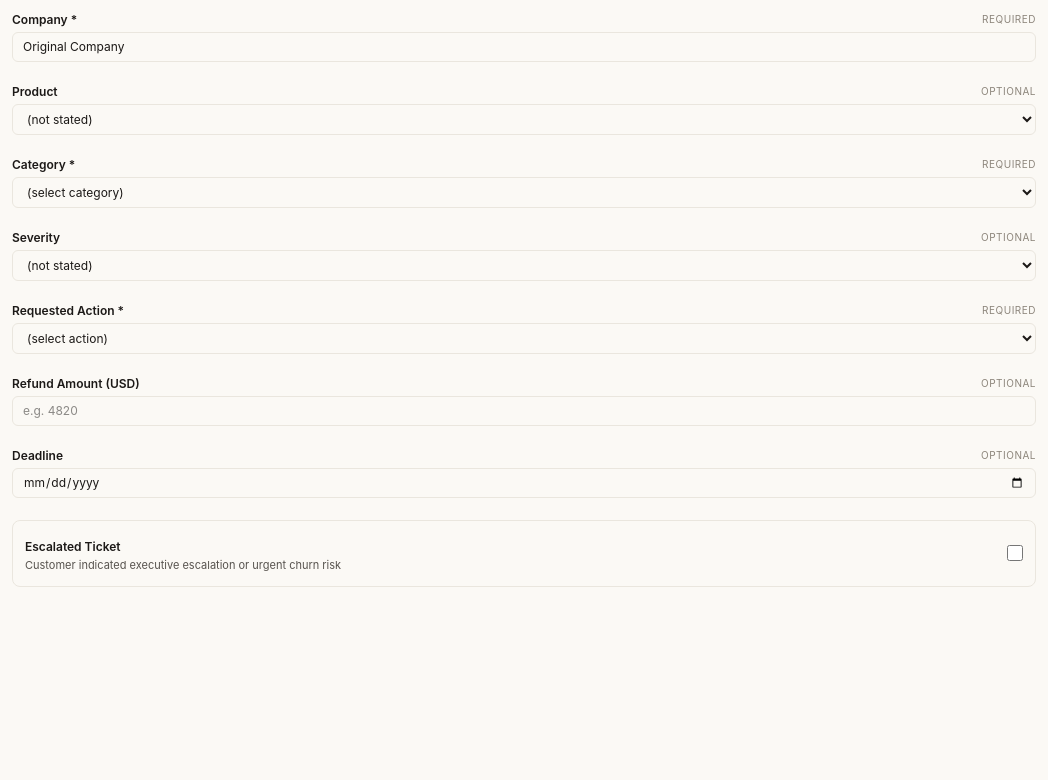
it: FieldEditor component › handles Enter to commit and Escape to cancel an edit
Step 1. Replace the text in the field with test id "input-company" with "New Company" → (524, 47), box [12,32,1036,62]
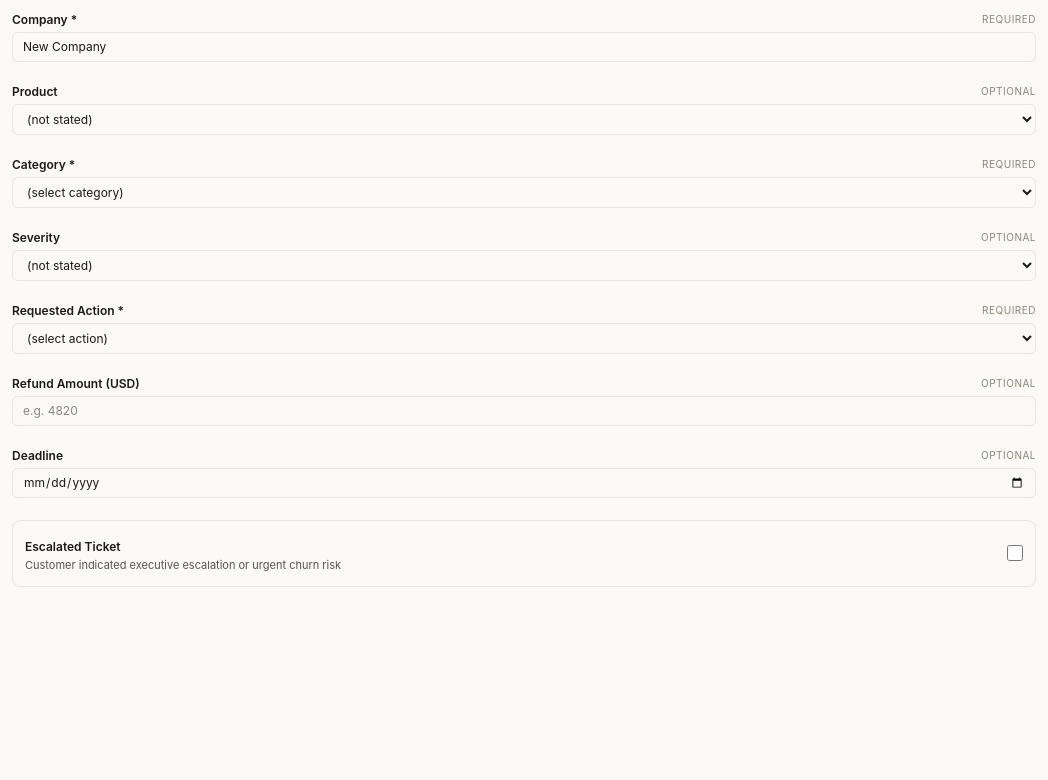
Step 2. Press Enter in the field with test id "input-company", box [12,32,1036,62]
Step 3. Replace the text in the field with test id "input-company" with "Aborted Company" → (524, 47), box [12,32,1036,62]
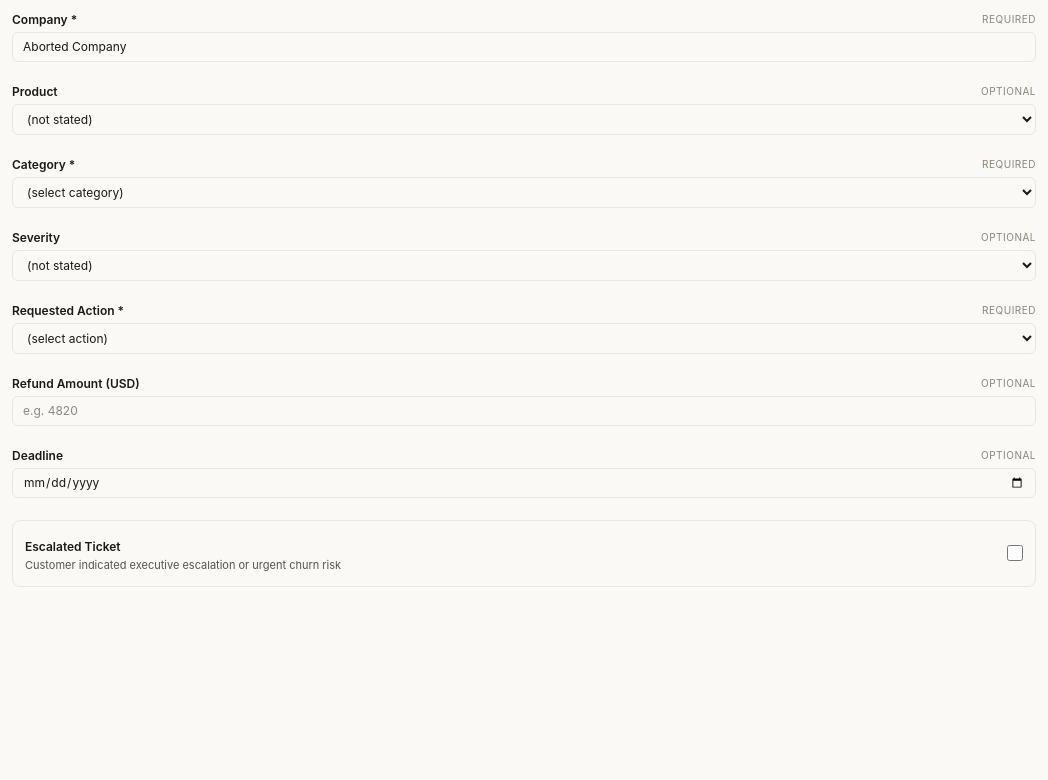
Step 4. Press Escape in the field with test id "input-company", box [12,32,1036,62]
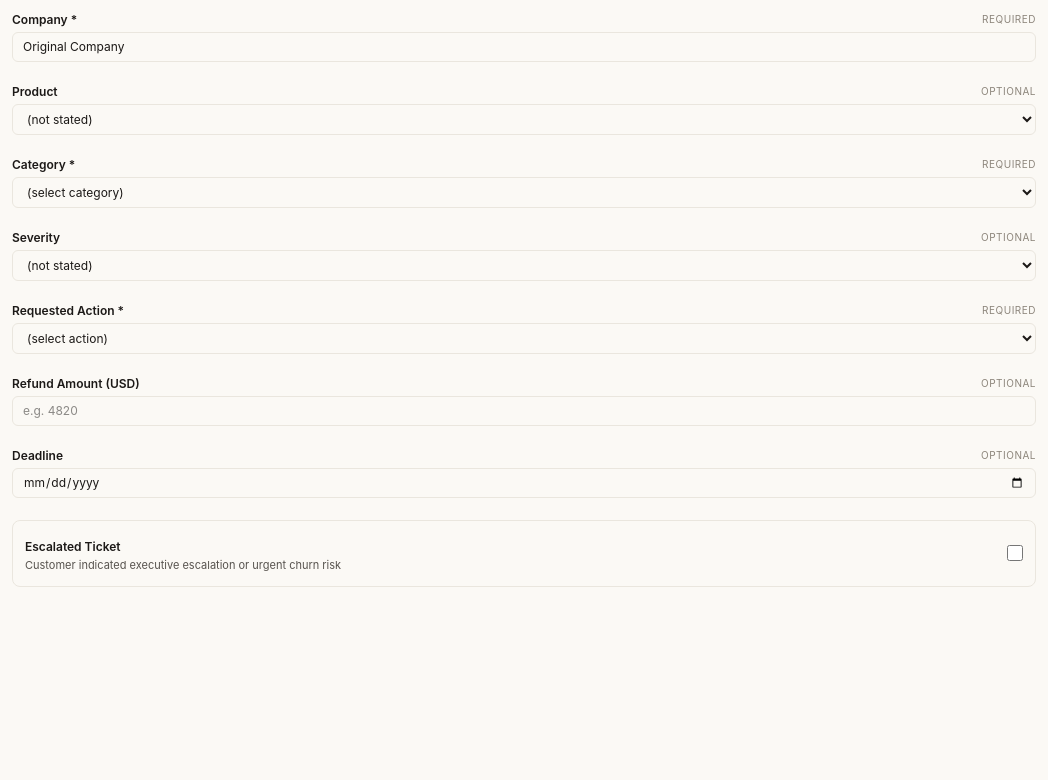
Expected: the field with test id "input-company" holds "Original Company", [12,32,1036,62]
